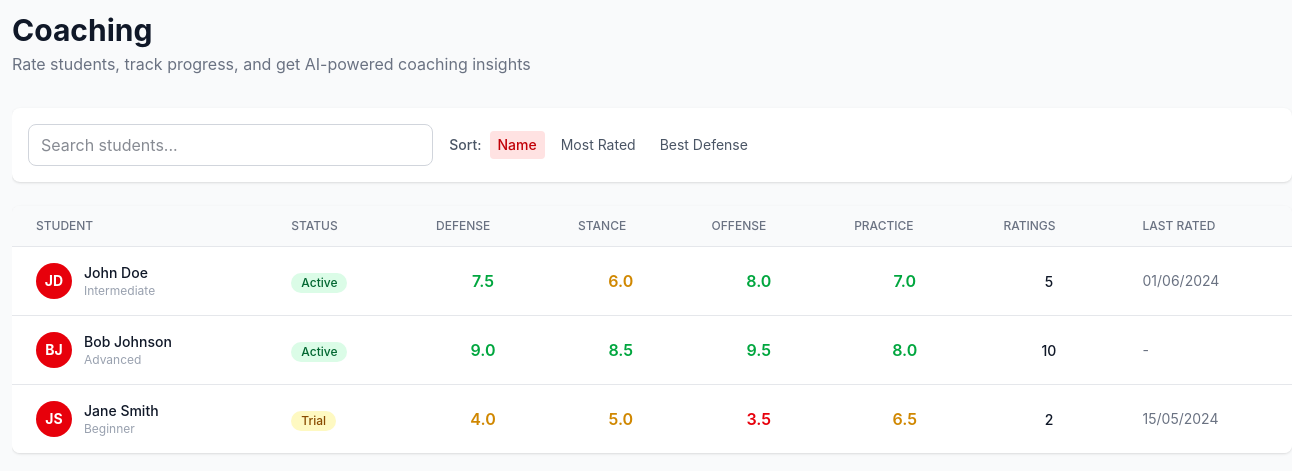
it: Coaching Page › search filters by email
Expected: the text "John Doe" is shown, [84, 263, 155, 283]
Type "jane@example.com" into the field with placeholder "Search students...".
click(231, 145); type("jane@example.com")  # box [28, 124, 433, 166]
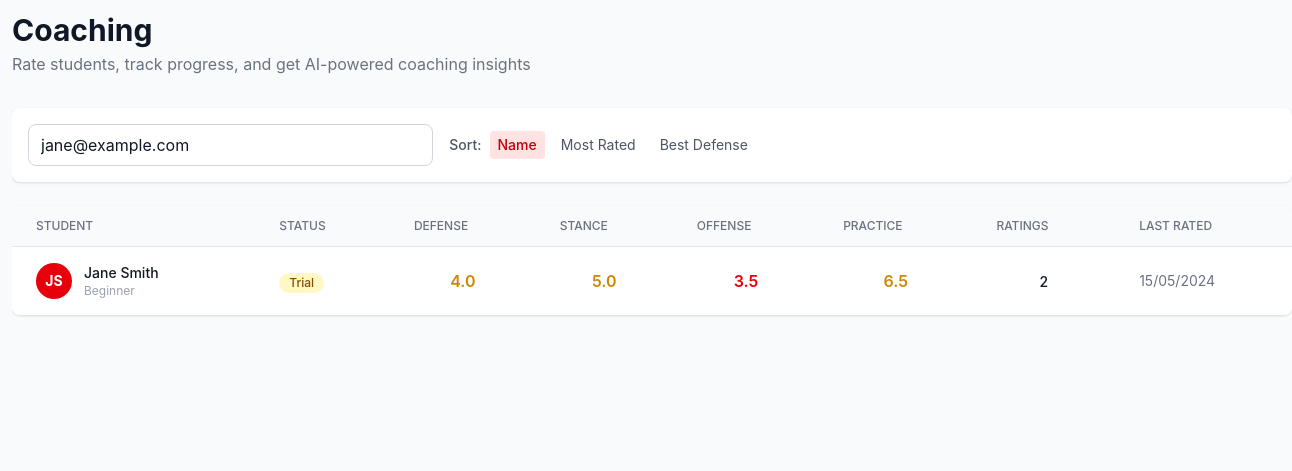
Expected: the text "Jane Smith" is shown, [84, 263, 159, 283]
Expected: the text "Bob Johnson" is gone
